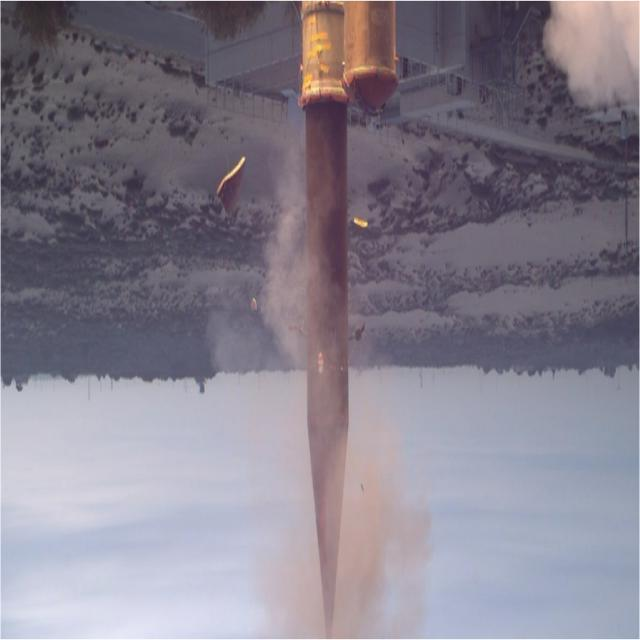Missile: (295, 76, 364, 640)
